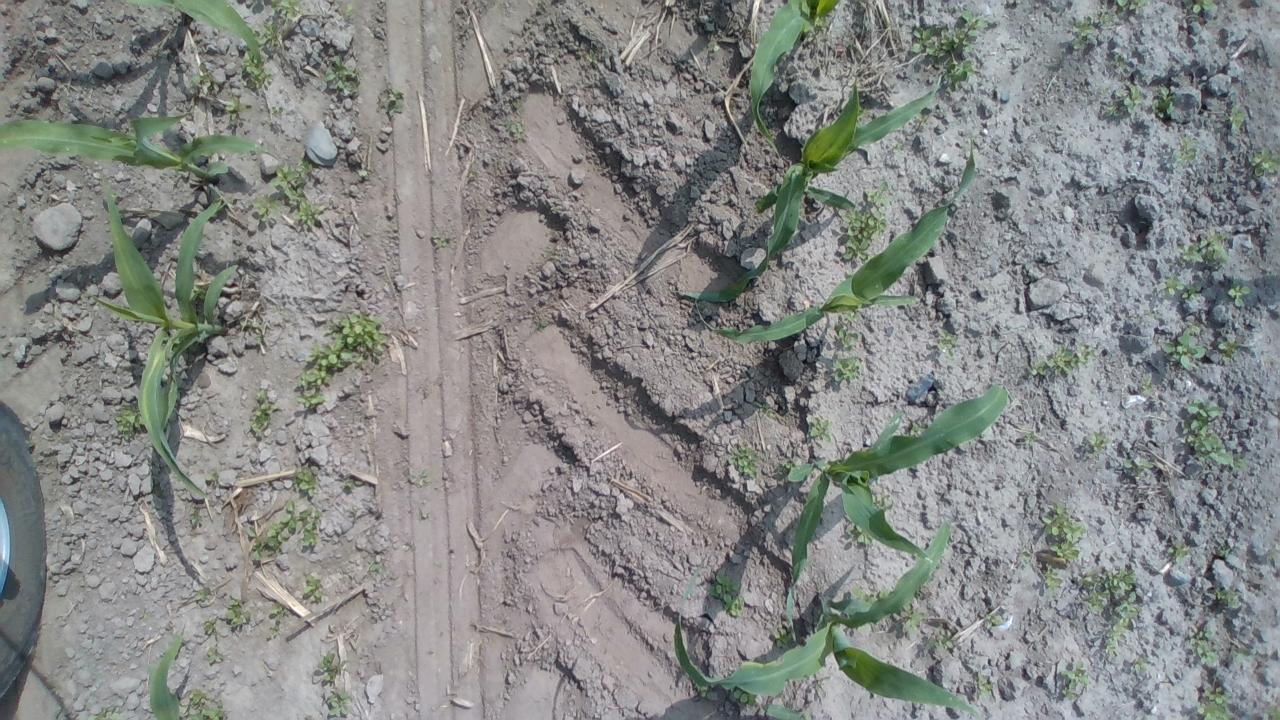Maize: (672, 78, 946, 306), (674, 522, 980, 720), (694, 135, 979, 347), (785, 385, 1009, 626), (90, 175, 240, 500), (0, 113, 276, 182), (749, 0, 840, 156), (121, 0, 265, 66), (146, 629, 184, 720)
Weeds: (294, 308, 392, 410), (910, 10, 988, 92), (247, 500, 321, 560), (840, 181, 889, 263), (1181, 400, 1233, 465), (1080, 565, 1138, 614), (1040, 504, 1086, 561), (1160, 322, 1208, 371), (270, 159, 322, 201), (1177, 228, 1231, 266), (1032, 346, 1096, 378), (320, 51, 362, 97), (711, 574, 746, 616), (247, 390, 280, 434), (1102, 85, 1145, 118), (1197, 686, 1235, 720), (1058, 660, 1088, 702), (186, 687, 224, 720), (240, 50, 272, 88), (114, 404, 146, 442), (1104, 616, 1132, 657), (1158, 276, 1202, 302), (250, 191, 284, 224), (728, 446, 760, 481), (1190, 630, 1218, 668), (1068, 15, 1098, 50), (1247, 146, 1280, 176), (832, 320, 862, 352), (831, 357, 864, 385), (375, 85, 405, 115), (924, 624, 954, 654), (292, 198, 324, 226), (190, 62, 217, 94), (223, 600, 250, 630), (901, 602, 924, 637), (807, 416, 834, 444), (292, 467, 317, 497), (254, 21, 282, 47), (270, 0, 304, 21), (936, 330, 958, 362), (1222, 105, 1248, 131), (1174, 134, 1198, 162), (327, 688, 351, 716), (1152, 85, 1174, 115), (88, 702, 124, 720), (241, 317, 263, 344), (974, 671, 993, 702), (318, 652, 338, 681), (224, 96, 249, 119), (1043, 565, 1063, 593), (1124, 458, 1152, 478), (1227, 282, 1250, 306), (1166, 541, 1190, 564), (268, 606, 285, 638), (302, 574, 321, 602), (1218, 340, 1240, 364), (1215, 588, 1238, 610), (1115, 0, 1148, 15), (852, 524, 874, 544), (504, 120, 525, 140), (772, 628, 794, 647), (1088, 434, 1110, 452), (733, 689, 757, 705), (774, 461, 794, 480), (415, 466, 432, 488), (1192, 0, 1215, 14), (850, 588, 870, 602), (1231, 454, 1247, 471), (984, 614, 1001, 630), (1138, 377, 1152, 396), (1263, 705, 1280, 720), (1134, 655, 1147, 674), (208, 648, 223, 664), (190, 508, 202, 528), (1100, 11, 1114, 27), (368, 561, 384, 575), (1023, 431, 1036, 448), (585, 49, 599, 64), (910, 422, 924, 437), (696, 686, 712, 698), (204, 618, 216, 634), (759, 404, 774, 416), (433, 238, 449, 248), (270, 106, 282, 119), (916, 114, 929, 126), (1110, 55, 1124, 66), (1218, 546, 1230, 558), (846, 310, 858, 322), (878, 496, 890, 508), (197, 590, 209, 601), (344, 4, 354, 16), (1020, 552, 1032, 562), (343, 480, 353, 492), (876, 590, 890, 598), (511, 98, 521, 109), (206, 472, 217, 481), (858, 108, 869, 117), (892, 143, 902, 152), (537, 319, 547, 328), (25, 439, 34, 448), (358, 169, 368, 177), (713, 43, 721, 53), (768, 130, 776, 140)
